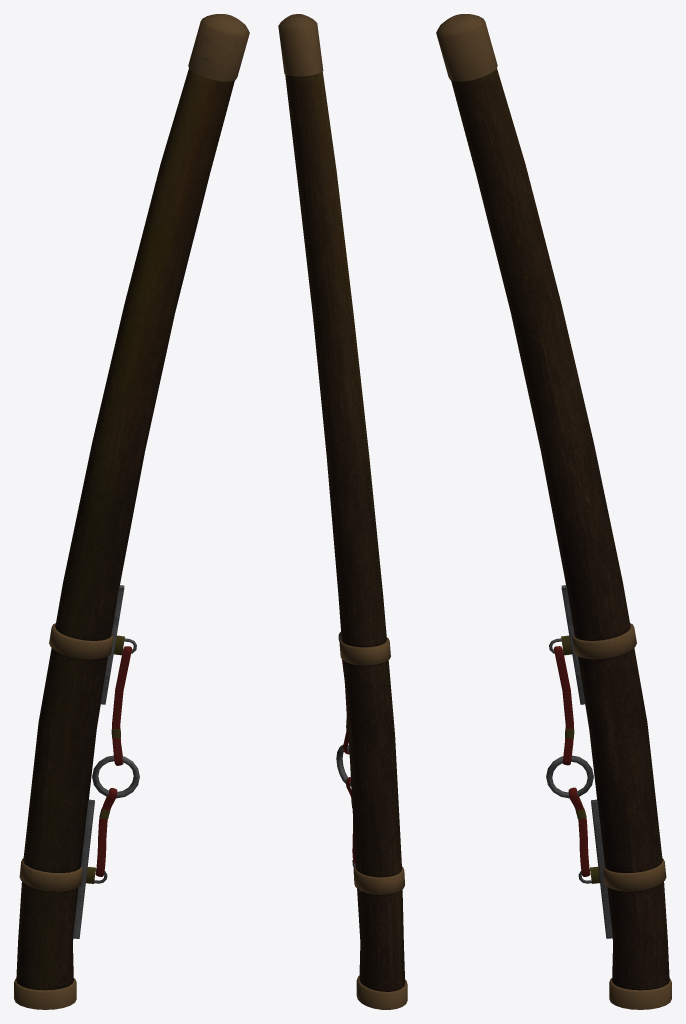
Rendered from SM_Hwando02a.fbx.
The picture shows the model from 3 angles, left to right: view 1: azimuth 90°, elevation 25°; view 2: azimuth 210°, elevation 25°; view 3: azimuth 270°, elevation 25°; orthographic projection. The views are drawn at different scales.
Parts seen in each view (by area): view 1: SM_Hwando02a; view 2: SM_Hwando02a; view 3: SM_Hwando02a.
Part boxes in pixels (x1,y1,x2,y2): SM_Hwando02a: [14, 14, 249, 1009]; SM_Hwando02a: [278, 14, 407, 1009]; SM_Hwando02a: [436, 14, 671, 1009].
Size of the model in its own units: 3.53 by 16.24 by 74.71.
Materials: 1 (1 with a texture image).
